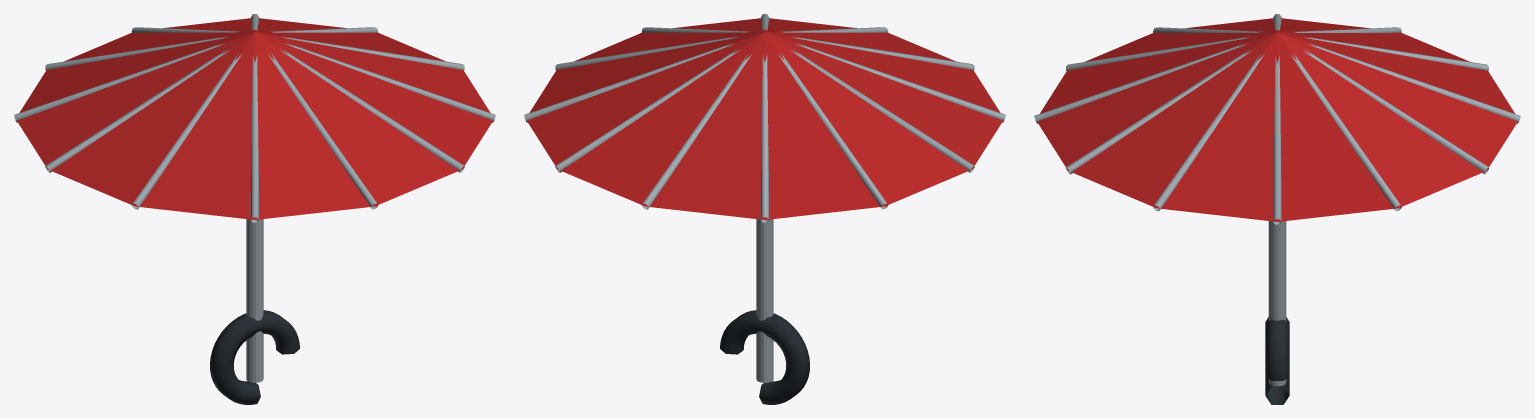
Rendered from umbrella-glider.glb.
The picture shows the model from 3 angles, left to right: view 1: azimuth 30°, elevation 25°; view 2: azimuth 150°, elevation 25°; view 3: azimuth 270°, elevation 25°; orthographic projection.
Visible parts, largest first — view 1: umbrella shaft; view 2: umbrella shaft; view 3: umbrella shaft.
Boxes of the visible parts, x1,y1,x2,y2 form: umbrella shaft: [14, 14, 495, 404]; umbrella shaft: [524, 14, 1005, 404]; umbrella shaft: [1034, 14, 1520, 404].
Size of the model in its own units: 1.01 by 0.8516 by 1.01.
